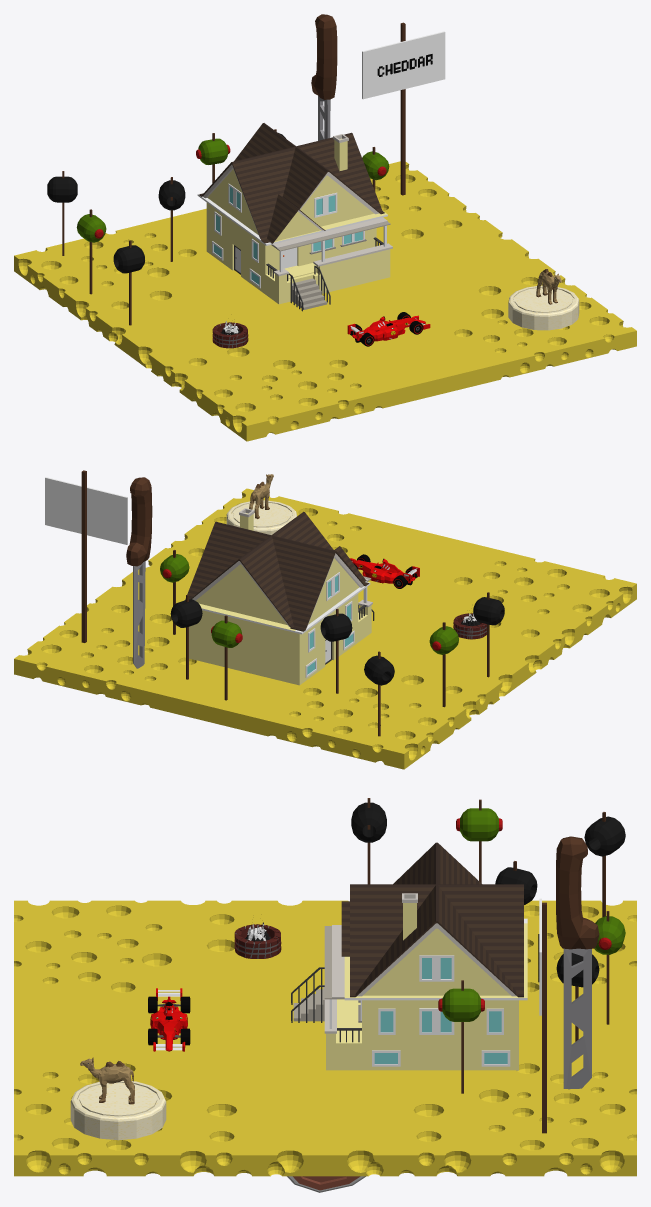
3 views of the same model, one above another, from view 1: azimuth 30°, elevation 25°; view 2: azimuth 150°, elevation 25°; view 3: azimuth 270°, elevation 25° (orthographic). The views are drawn at different scales.
Visible parts, largest first — view 1: Cube.022, Cube.1555, Cube.023, Cylinder.016, Cube.024, VEHICLES_FORMULA_1, Sphere.016, Sphere.017, Sphere.018, OBJRANDOM_CAMPFIRE, Sphere.020, Sphere.022 (+1 smaller); view 2: Cube.022, Cube.1555, Cube.023, Cube.024, Cylinder.016, VEHICLES_FORMULA_1, Sphere.022, Sphere.017, Sphere.020, Sphere.021, Sphere.018, Sphere.016 (+3 smaller); view 3: Cube.022, Cube.1555, Cube.024, Cylinder.016, VEHICLES_FORMULA_1, Cube.023, Sphere.019, Sphere.016, OBJRANDOM_CAMPFIRE, Sphere.018, Sphere.017, Sphere.022 (+4 smaller).
Boxes of the visible parts, <box> form: Cube.022: <box>14,161,636,441</box>; Cube.1555: <box>197,123,392,311</box>; Cube.023: <box>362,22,445,195</box>; Cylinder.016: <box>508,285,579,330</box>; Cube.024: <box>311,14,337,140</box>; VEHICLES_FORMULA_1: <box>347,312,430,346</box>; Sphere.016: <box>47,171,77,255</box>; Sphere.017: <box>113,240,144,325</box>; Sphere.018: <box>76,209,106,294</box>; OBJRANDOM_CAMPFIRE: <box>212,321,248,348</box>; Sphere.020: <box>158,177,185,261</box>; Sphere.022: <box>196,133,230,182</box>; Cube.022: <box>14,488,636,769</box>; Cube.1555: <box>184,508,374,685</box>; Cube.023: <box>45,470,127,642</box>; Cube.024: <box>126,477,152,668</box>; Cylinder.016: <box>226,500,296,534</box>; VEHICLES_FORMULA_1: <box>350,554,419,588</box>; Sphere.022: <box>211,615,242,700</box>; Sphere.017: <box>473,592,504,677</box>; Sphere.020: <box>320,609,352,693</box>; Sphere.021: <box>170,594,202,679</box>; Sphere.018: <box>429,622,458,707</box>; Sphere.016: <box>364,651,394,736</box>; Cube.022: <box>14,900,636,1176</box>; Cube.1555: <box>291,842,527,1070</box>; Cube.024: <box>556,836,599,1089</box>; Cylinder.016: <box>70,1080,166,1140</box>; VEHICLES_FORMULA_1: <box>148,988,190,1051</box>; Cube.023: <box>538,898,546,1133</box>; Sphere.019: <box>438,980,484,1093</box>; Sphere.016: <box>584,812,625,917</box>; OBJRANDOM_CAMPFIRE: <box>234,922,281,958</box>; Sphere.018: <box>456,799,502,882</box>; Sphere.017: <box>351,798,386,884</box>; Sphere.022: <box>594,911,625,1024</box>.
Size of the model in its own units: 3917 by 2723 by 4000.
45 materials, 3 textured.
